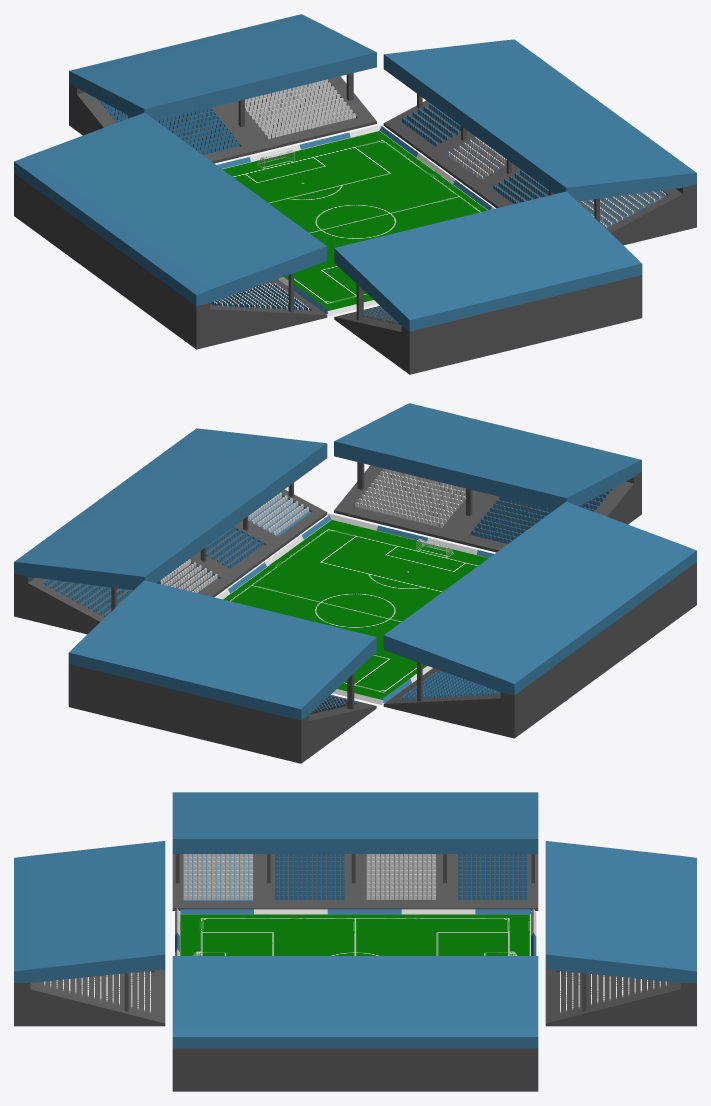
File: Soccer Field.fbx
3 renders of one model, top to bottom at view 1: azimuth 30°, elevation 25°; view 2: azimuth 150°, elevation 25°; view 3: azimuth 270°, elevation 25°, orthographic.
Visible parts, largest first — view 1: stadium_sides, stadium_ends, Soccer_pitch, sideline_panels; view 2: stadium_sides, stadium_ends, Soccer_pitch, sideline_panels; view 3: stadium_sides, stadium_ends, Soccer_pitch, sideline_panels.
Boxes of the visible parts, left/top/right/bottom form: stadium_sides: left=14, top=39, right=696, bottom=349; stadium_ends: left=69, top=14, right=642, bottom=374; Soccer_pitch: left=222, top=130, right=487, bottom=310; sideline_panels: left=217, top=124, right=494, bottom=315; stadium_sides: left=14, top=428, right=696, bottom=738; stadium_ends: left=68, top=403, right=641, bottom=763; Soccer_pitch: left=223, top=519, right=488, bottom=699; sideline_panels: left=216, top=513, right=493, bottom=704; stadium_sides: left=172, top=792, right=538, bottom=1091; stadium_ends: left=14, top=841, right=696, bottom=1026; Soccer_pitch: left=180, top=914, right=530, bottom=955; sideline_panels: left=175, top=908, right=536, bottom=955.
Bounding box in the file's own units: 12223 × 1674 × 14414.
Materials: 6 (1 with a texture image).
